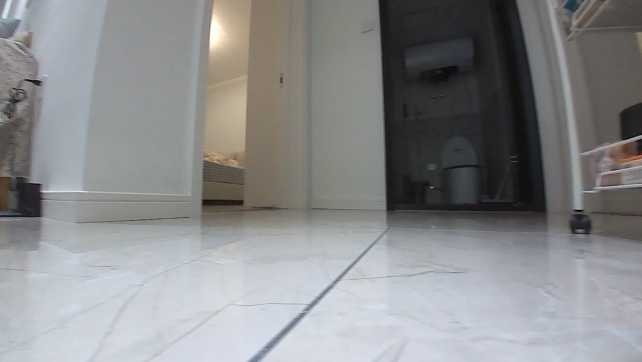toilet: (438, 133, 485, 208)
